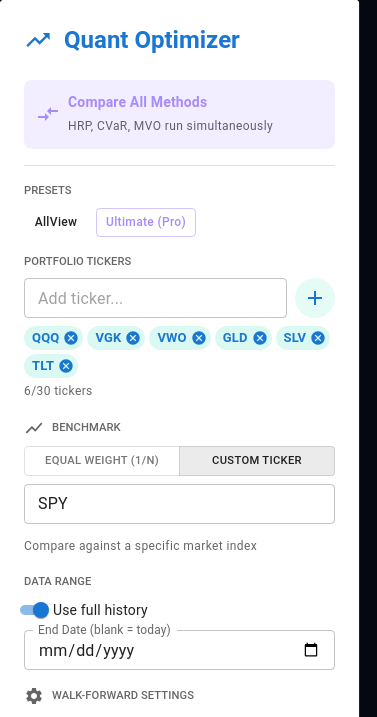
Test case: Sidebar parameter guard › rejects a malformed ticker before it can reach the Tiingo URL
Type "../../account" into the field with placeholder "Add ticker..." at [156, 298], box x1=24 y1=278 x2=287 y2=318
Then press Enter
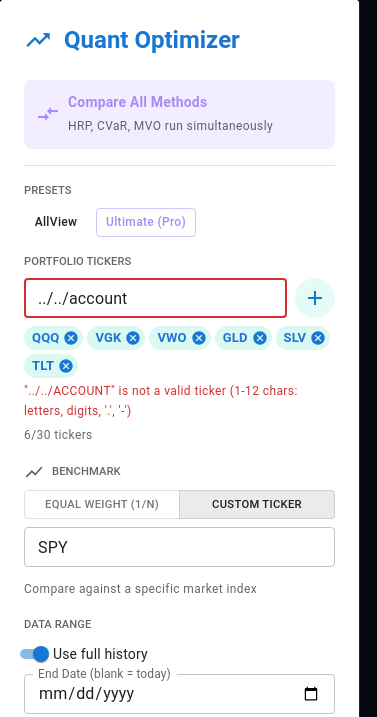
Expected: the text "6/30 tickers" is shown, x1=24 y1=428 x2=93 y2=442
Now the text "is not a valid ticker" is shown, box x1=24 y1=384 x2=298 y2=418
